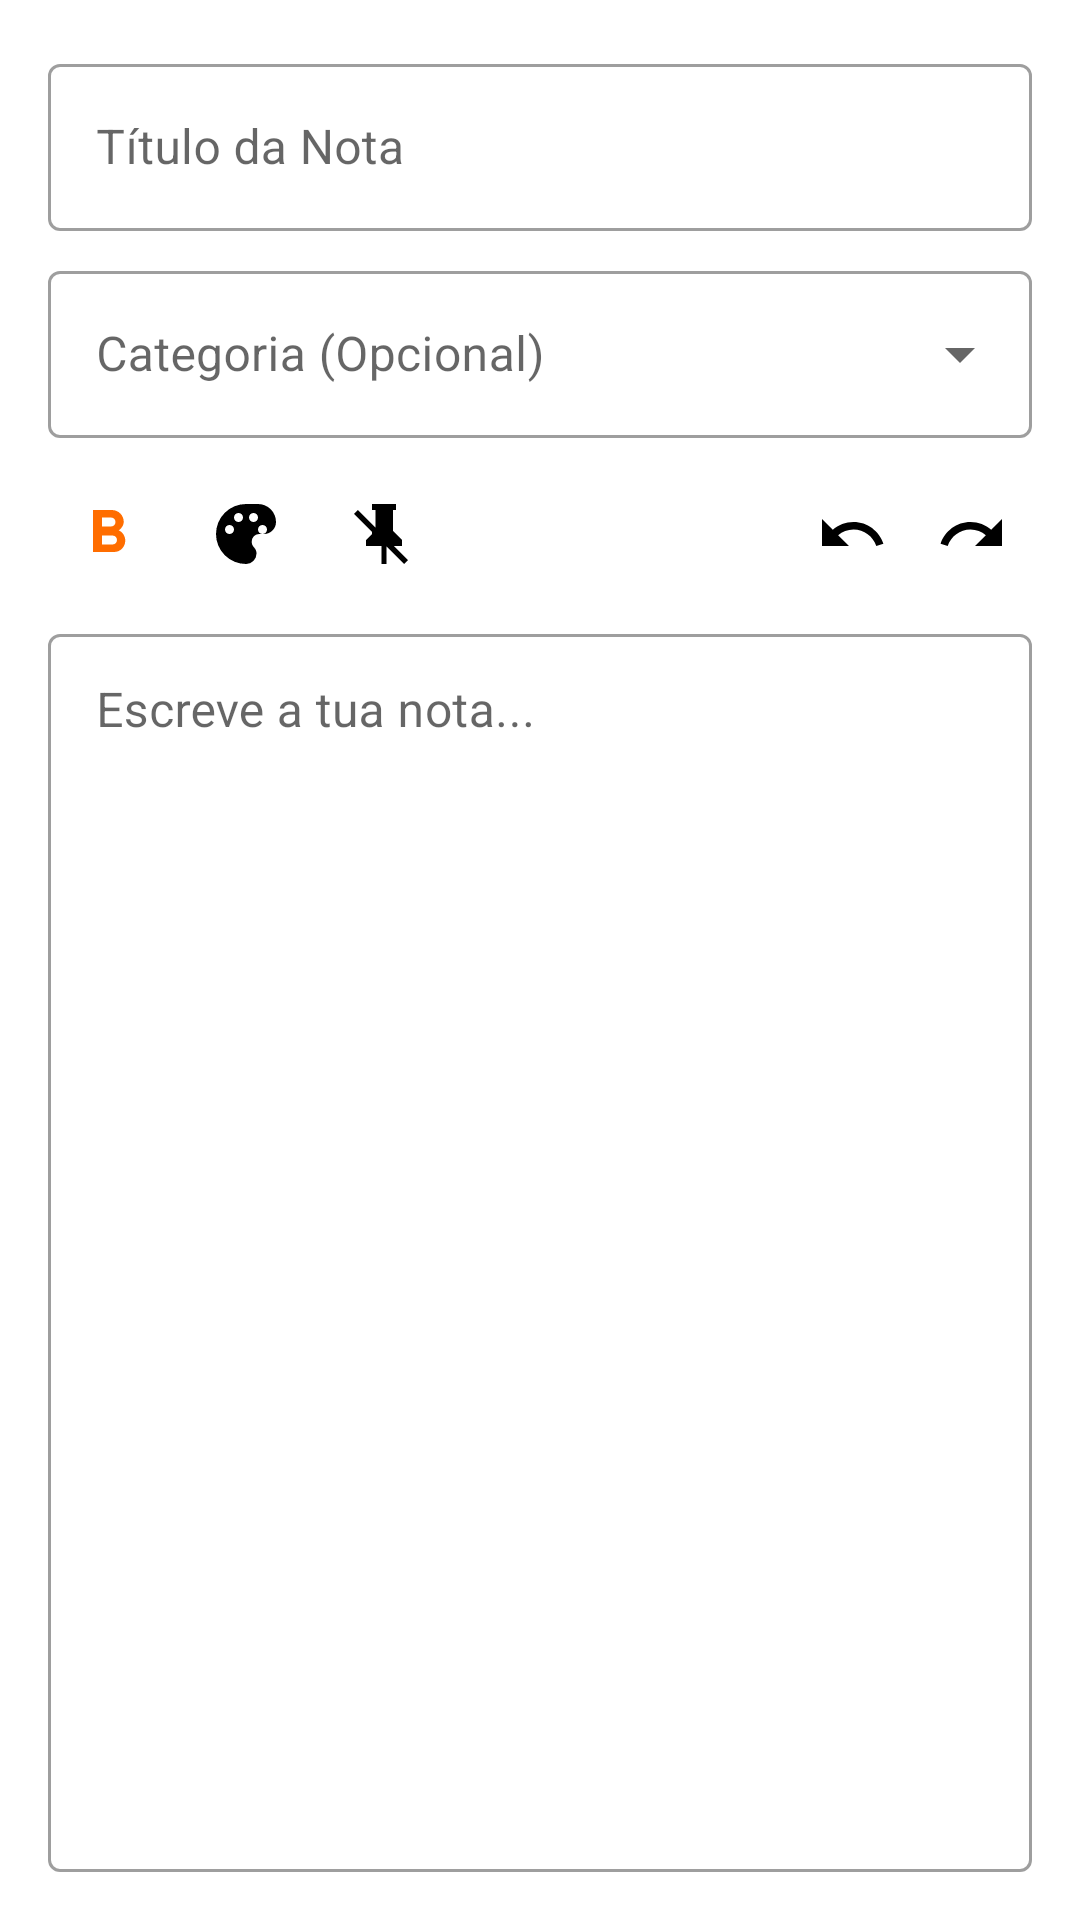

Named icons in this screenshot (1080w x 1920h) and their centers, point (x, y):
Cor de Fundo da Nota: point (246, 534)
Desfazer: point (853, 532)
Formatar Texto: point (109, 531)
Refazer: point (971, 532)
